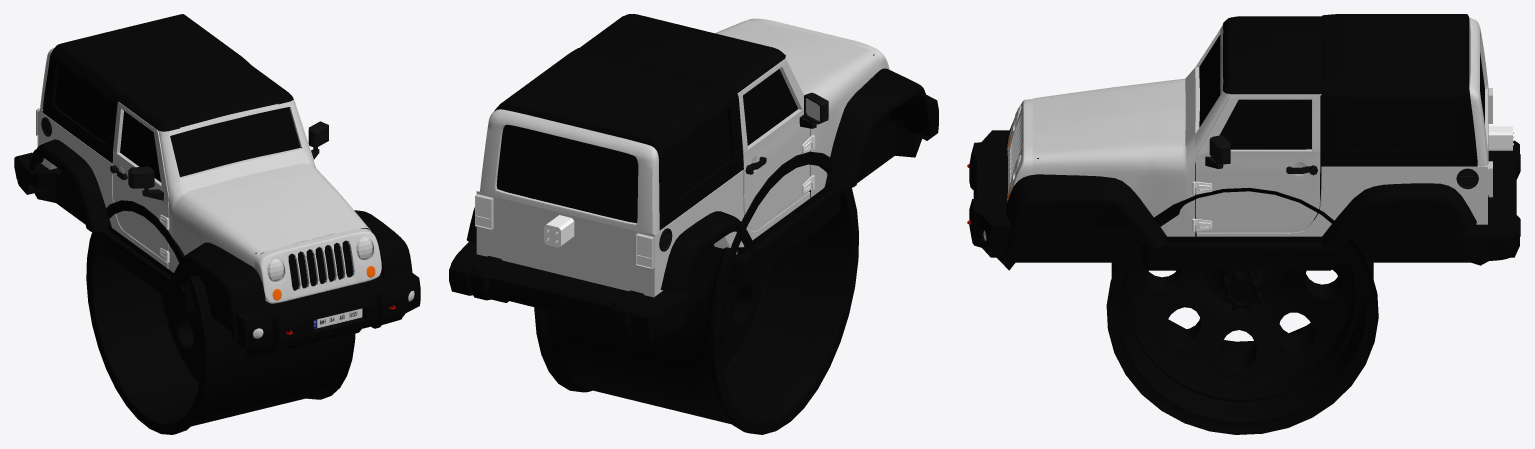
Rendered from wrangler.glb.
The picture shows the model from 3 angles, left to right: view 1: azimuth 30°, elevation 25°; view 2: azimuth 150°, elevation 25°; view 3: azimuth 270°, elevation 25°; orthographic projection. The views are drawn at different scales.
Parts seen in each view (by area): view 1: trim:11, paint:12, rim:3, screen:14, glass:14, trim:13, trim:15, trim:7, trim:16, head_r:4; view 2: trim:11, rim:3, paint:12, glass:14, trim:6, trim:15, tail:2; view 3: trim:11, paint:12, rim:3, glass:14, trim:13, screen:14, trim:15, trim:6.
Part boxes in pixels (left/top/right/bottom): trim:11: left=14, top=14, right=420, bottom=356; paint:12: left=36, top=48, right=381, bottom=303; rim:3: left=86, top=200, right=355, bottom=434; screen:14: left=170, top=107, right=300, bottom=176; glass:14: left=55, top=65, right=160, bottom=182; trim:13: left=60, top=170, right=376, bottom=304; trim:15: left=41, top=117, right=328, bottom=200; trim:7: left=288, top=241, right=353, bottom=290; trim:16: left=313, top=308, right=362, bottom=329; head_r:4: left=252, top=258, right=283, bottom=338; trim:11: left=449, top=14, right=938, bottom=339; rim:3: left=534, top=151, right=858, bottom=434; paint:12: left=475, top=18, right=889, bottom=297; glass:14: left=496, top=69, right=797, bottom=223; trim:6: left=544, top=135, right=814, bottom=247; trim:15: left=659, top=92, right=828, bottom=251; tail:2: left=475, top=197, right=651, bottom=267; trim:11: left=969, top=14, right=1520, bottom=270; paint:12: left=1007, top=18, right=1492, bottom=236; rim:3: left=1106, top=187, right=1378, bottom=434; glass:14: left=1219, top=52, right=1484, bottom=150; trim:13: left=1018, top=95, right=1459, bottom=236; screen:14: left=1199, top=34, right=1220, bottom=127; trim:15: left=1205, top=135, right=1478, bottom=189; trim:6: left=1192, top=126, right=1513, bottom=231.
Size of the model in its own units: 1.89 by 2.8 by 4.06.
18 materials, 1 textured.
